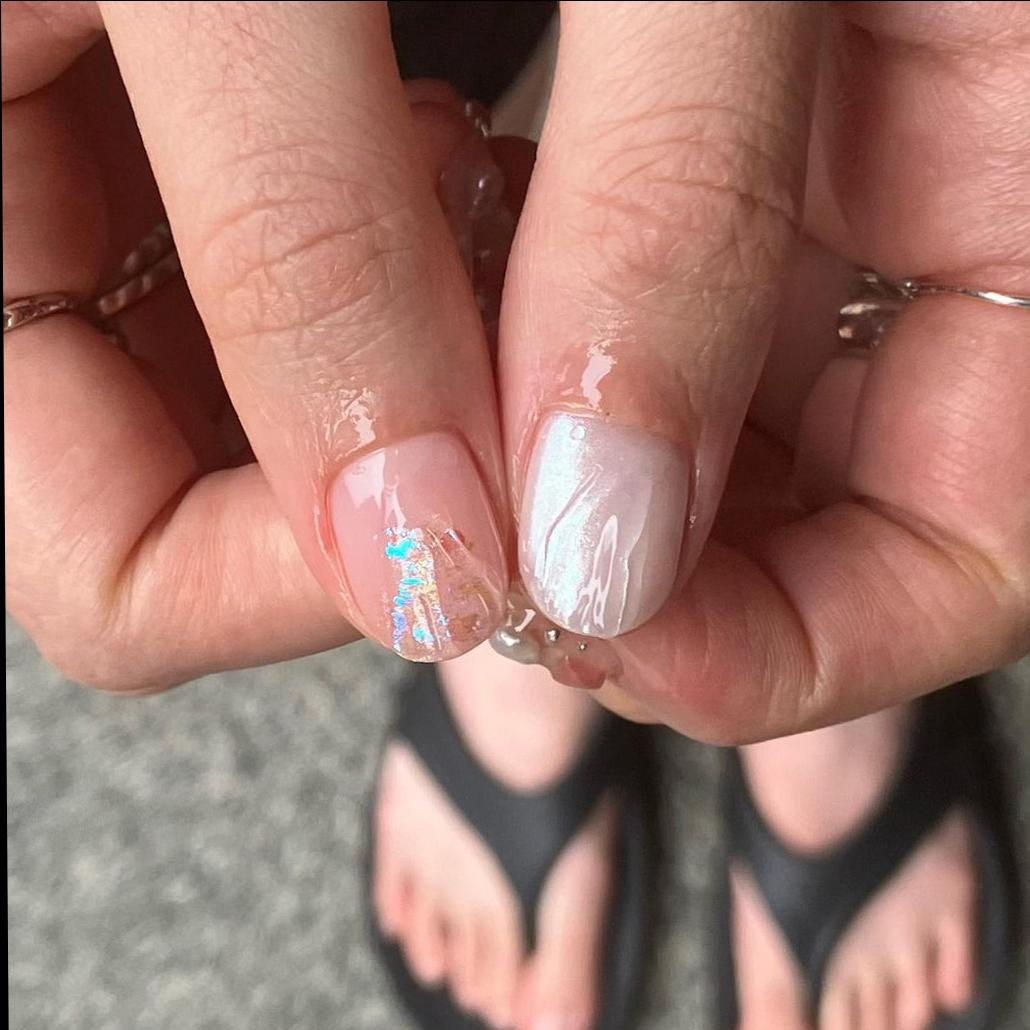nail: (323, 426, 512, 662), (513, 406, 693, 638)
